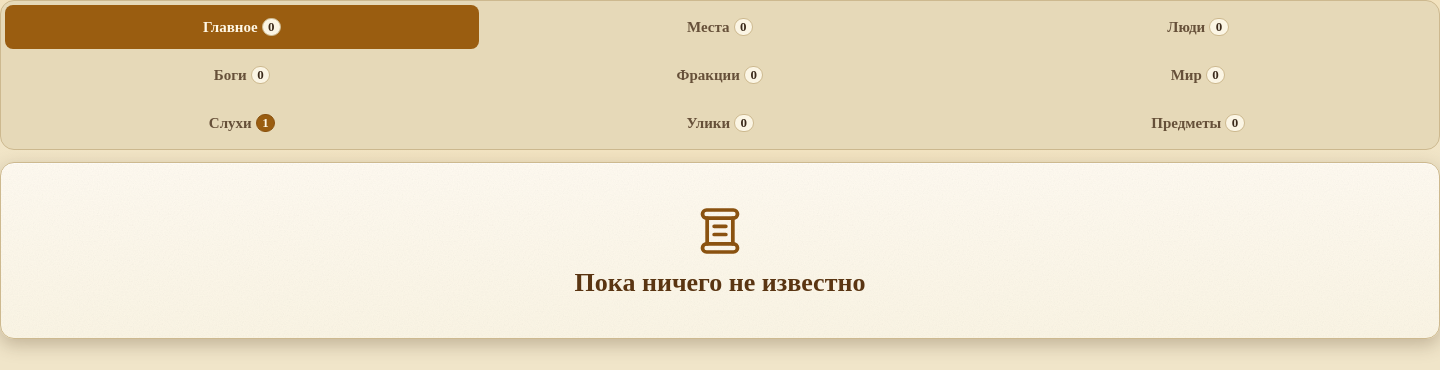
Test: карточка записи › короткий слух: текст совпадает с названием — фраза не стоит в карточке дважды
The image size is (1440, 370).
What coordinates should you click on to do the following:
click the tab "Слухи 1"
I would click on:
 (242, 123)
Its box is [5,101,479,145].
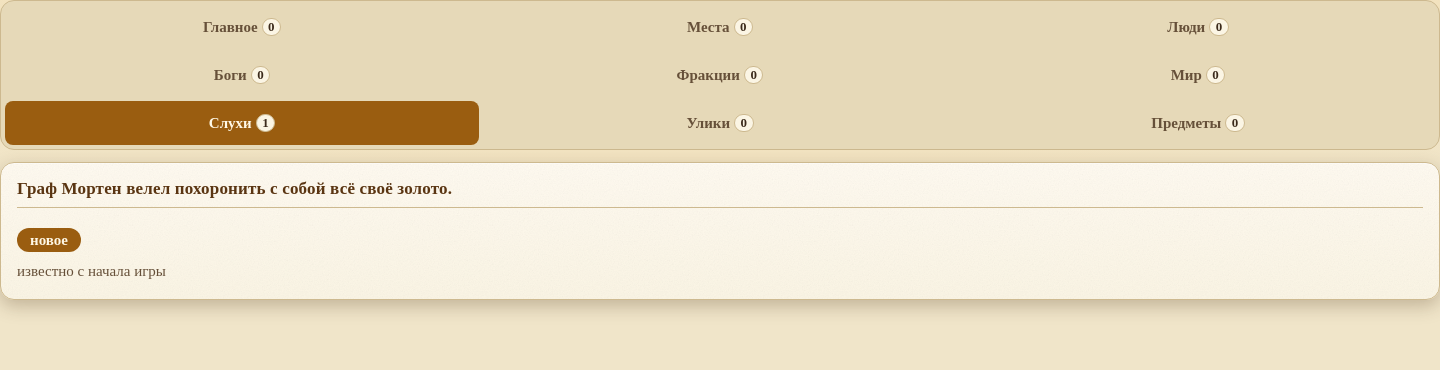
Now the number of headings "Граф Мортен велел похоронить с собой всё своё золото." is 1, box [17,179,452,199]
Now the text "известно с начала игры" is shown, box [17,263,166,279]
